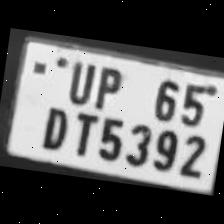2: (174, 127, 210, 180)
3: (120, 117, 154, 169)
5: (92, 110, 127, 162), (175, 78, 211, 128)
6: (146, 73, 182, 123)
9: (147, 123, 180, 172)
D: (34, 100, 73, 152)
P: (88, 60, 127, 112)
T: (64, 106, 100, 158)
U: (61, 56, 97, 104)
